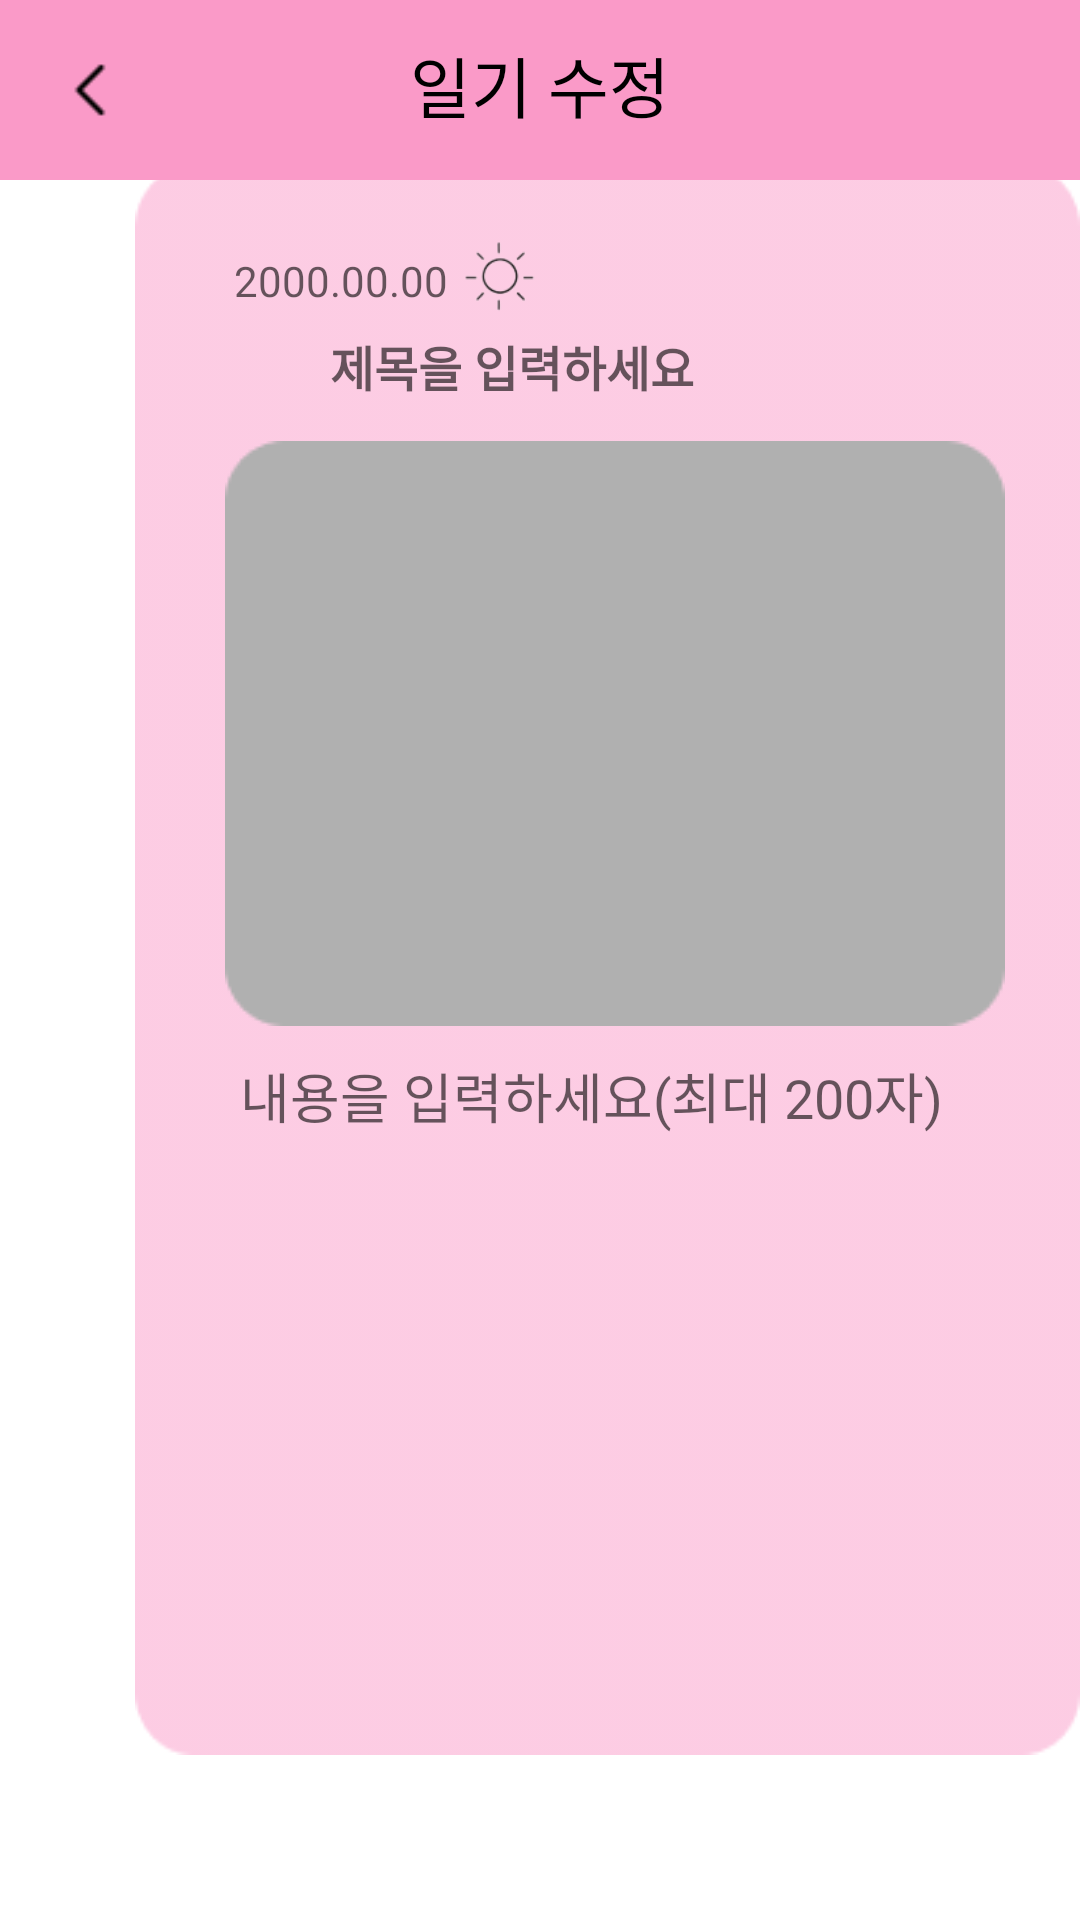

Icons on this 1080×1920 Android screen, each with the point to tap as (x=x, y=y):
sun back: (x=499, y=276)
